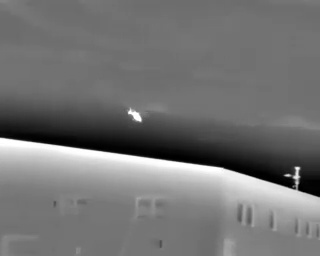HELICOPTER: (124, 104, 153, 128)
